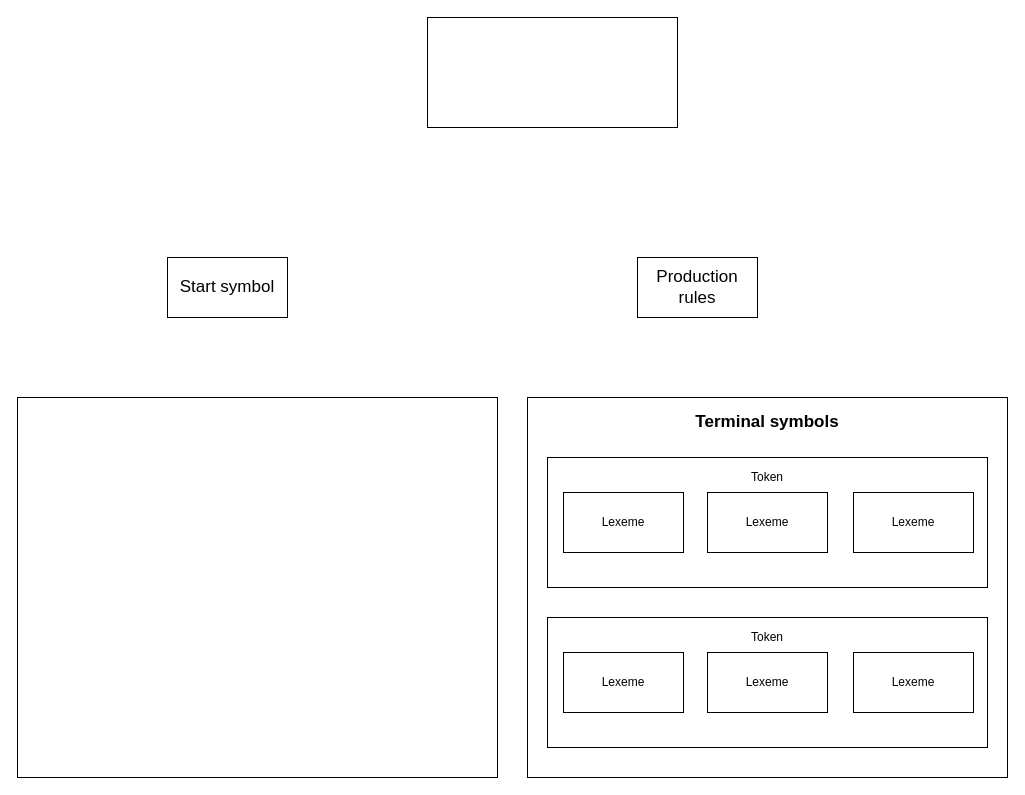
This 1025x795 diagram has some shape labels left out. The box of each missing label's shape, as (x1, y1, x2, y2) in pixels:
Context Free Grammar (CFG) BNF notation: (426, 16, 678, 128)
Non-Terminal symbols: (16, 396, 498, 778)
